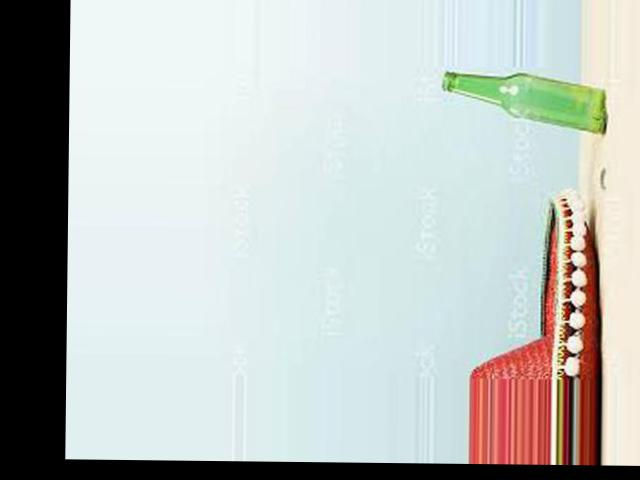beer: (441, 73, 612, 135)
